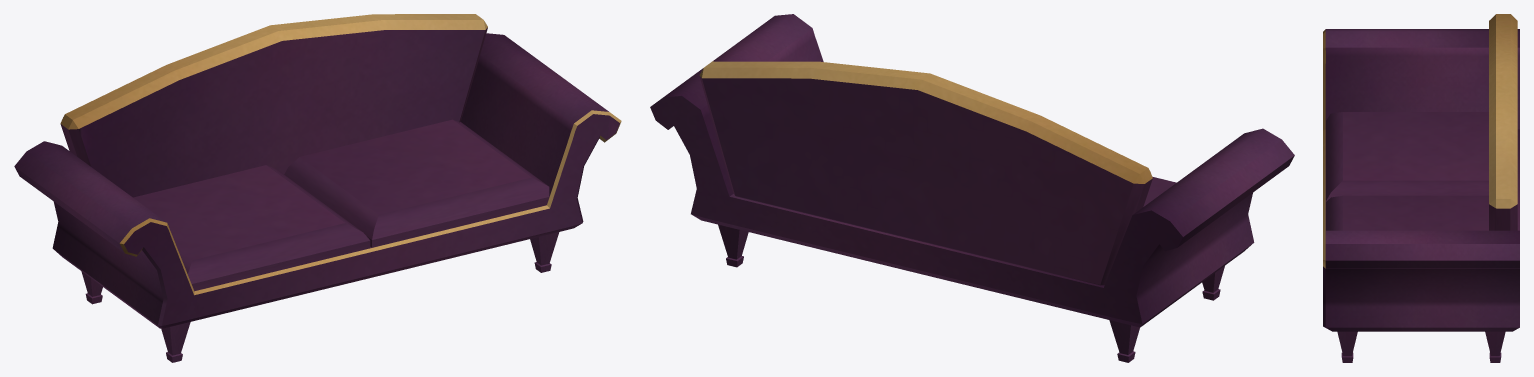
The model's file is SM_servant_couch.fbx.
3 renders of one model, left to right at view 1: azimuth 30°, elevation 25°; view 2: azimuth 150°, elevation 25°; view 3: azimuth 270°, elevation 25°, orthographic. The views are drawn at different scales.
Parts seen in each view (by area): view 1: SM_servant_couch; view 2: SM_servant_couch; view 3: SM_servant_couch.
Part boxes in pixels (left/top/right/bottom): SM_servant_couch: left=14, top=14, right=621, bottom=362; SM_servant_couch: left=650, top=14, right=1294, bottom=362; SM_servant_couch: left=1323, top=14, right=1519, bottom=362.
Size of the model in its own units: 3.1 by 1.33 by 1.14.
